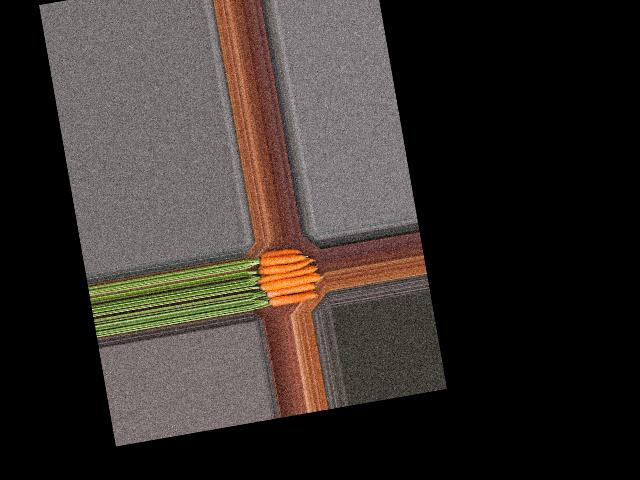carrot: (258, 241, 308, 262)
